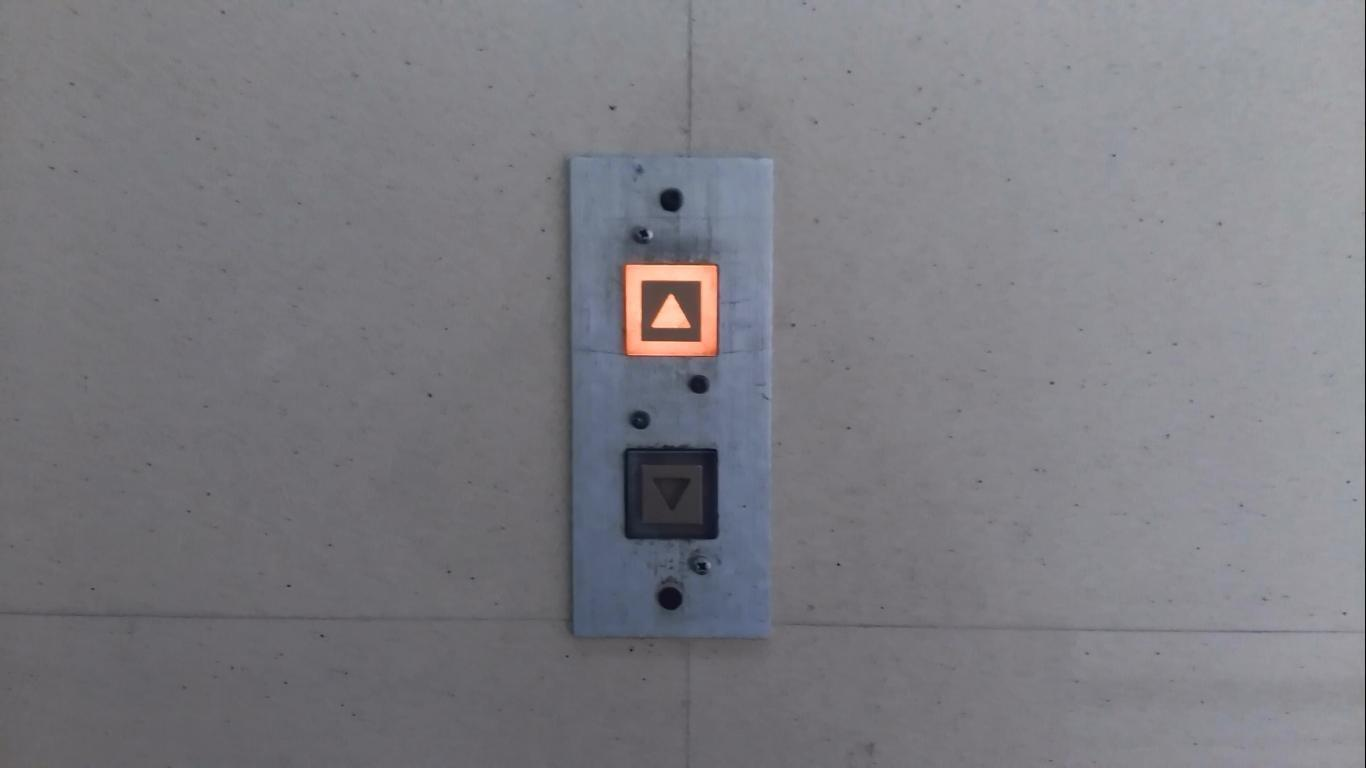down: (620, 445, 721, 543)
up: (617, 258, 721, 358)
